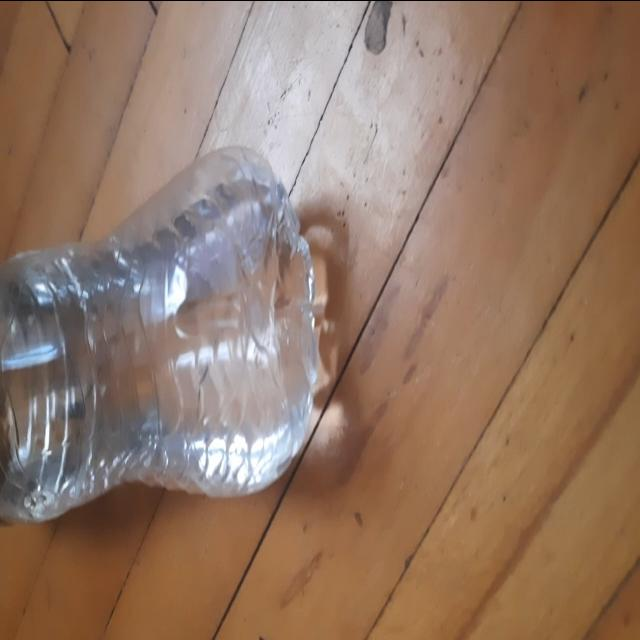Plastic: (0, 144, 336, 525)
